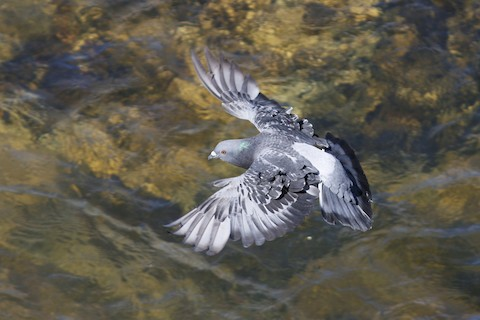pigeon: (164, 50, 377, 261)
